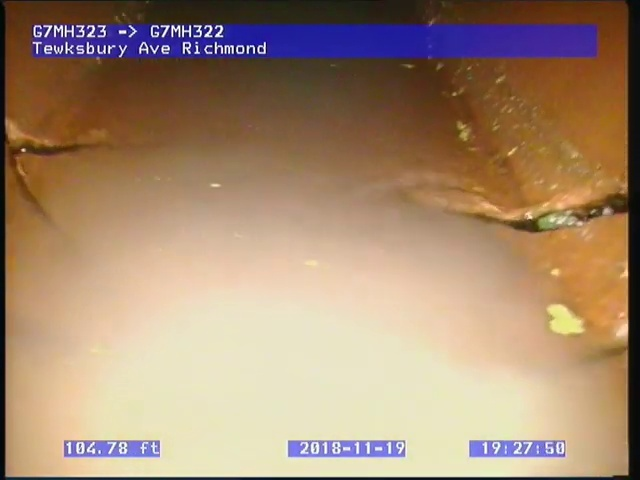crack: (6, 118, 110, 234), (438, 187, 628, 235)
